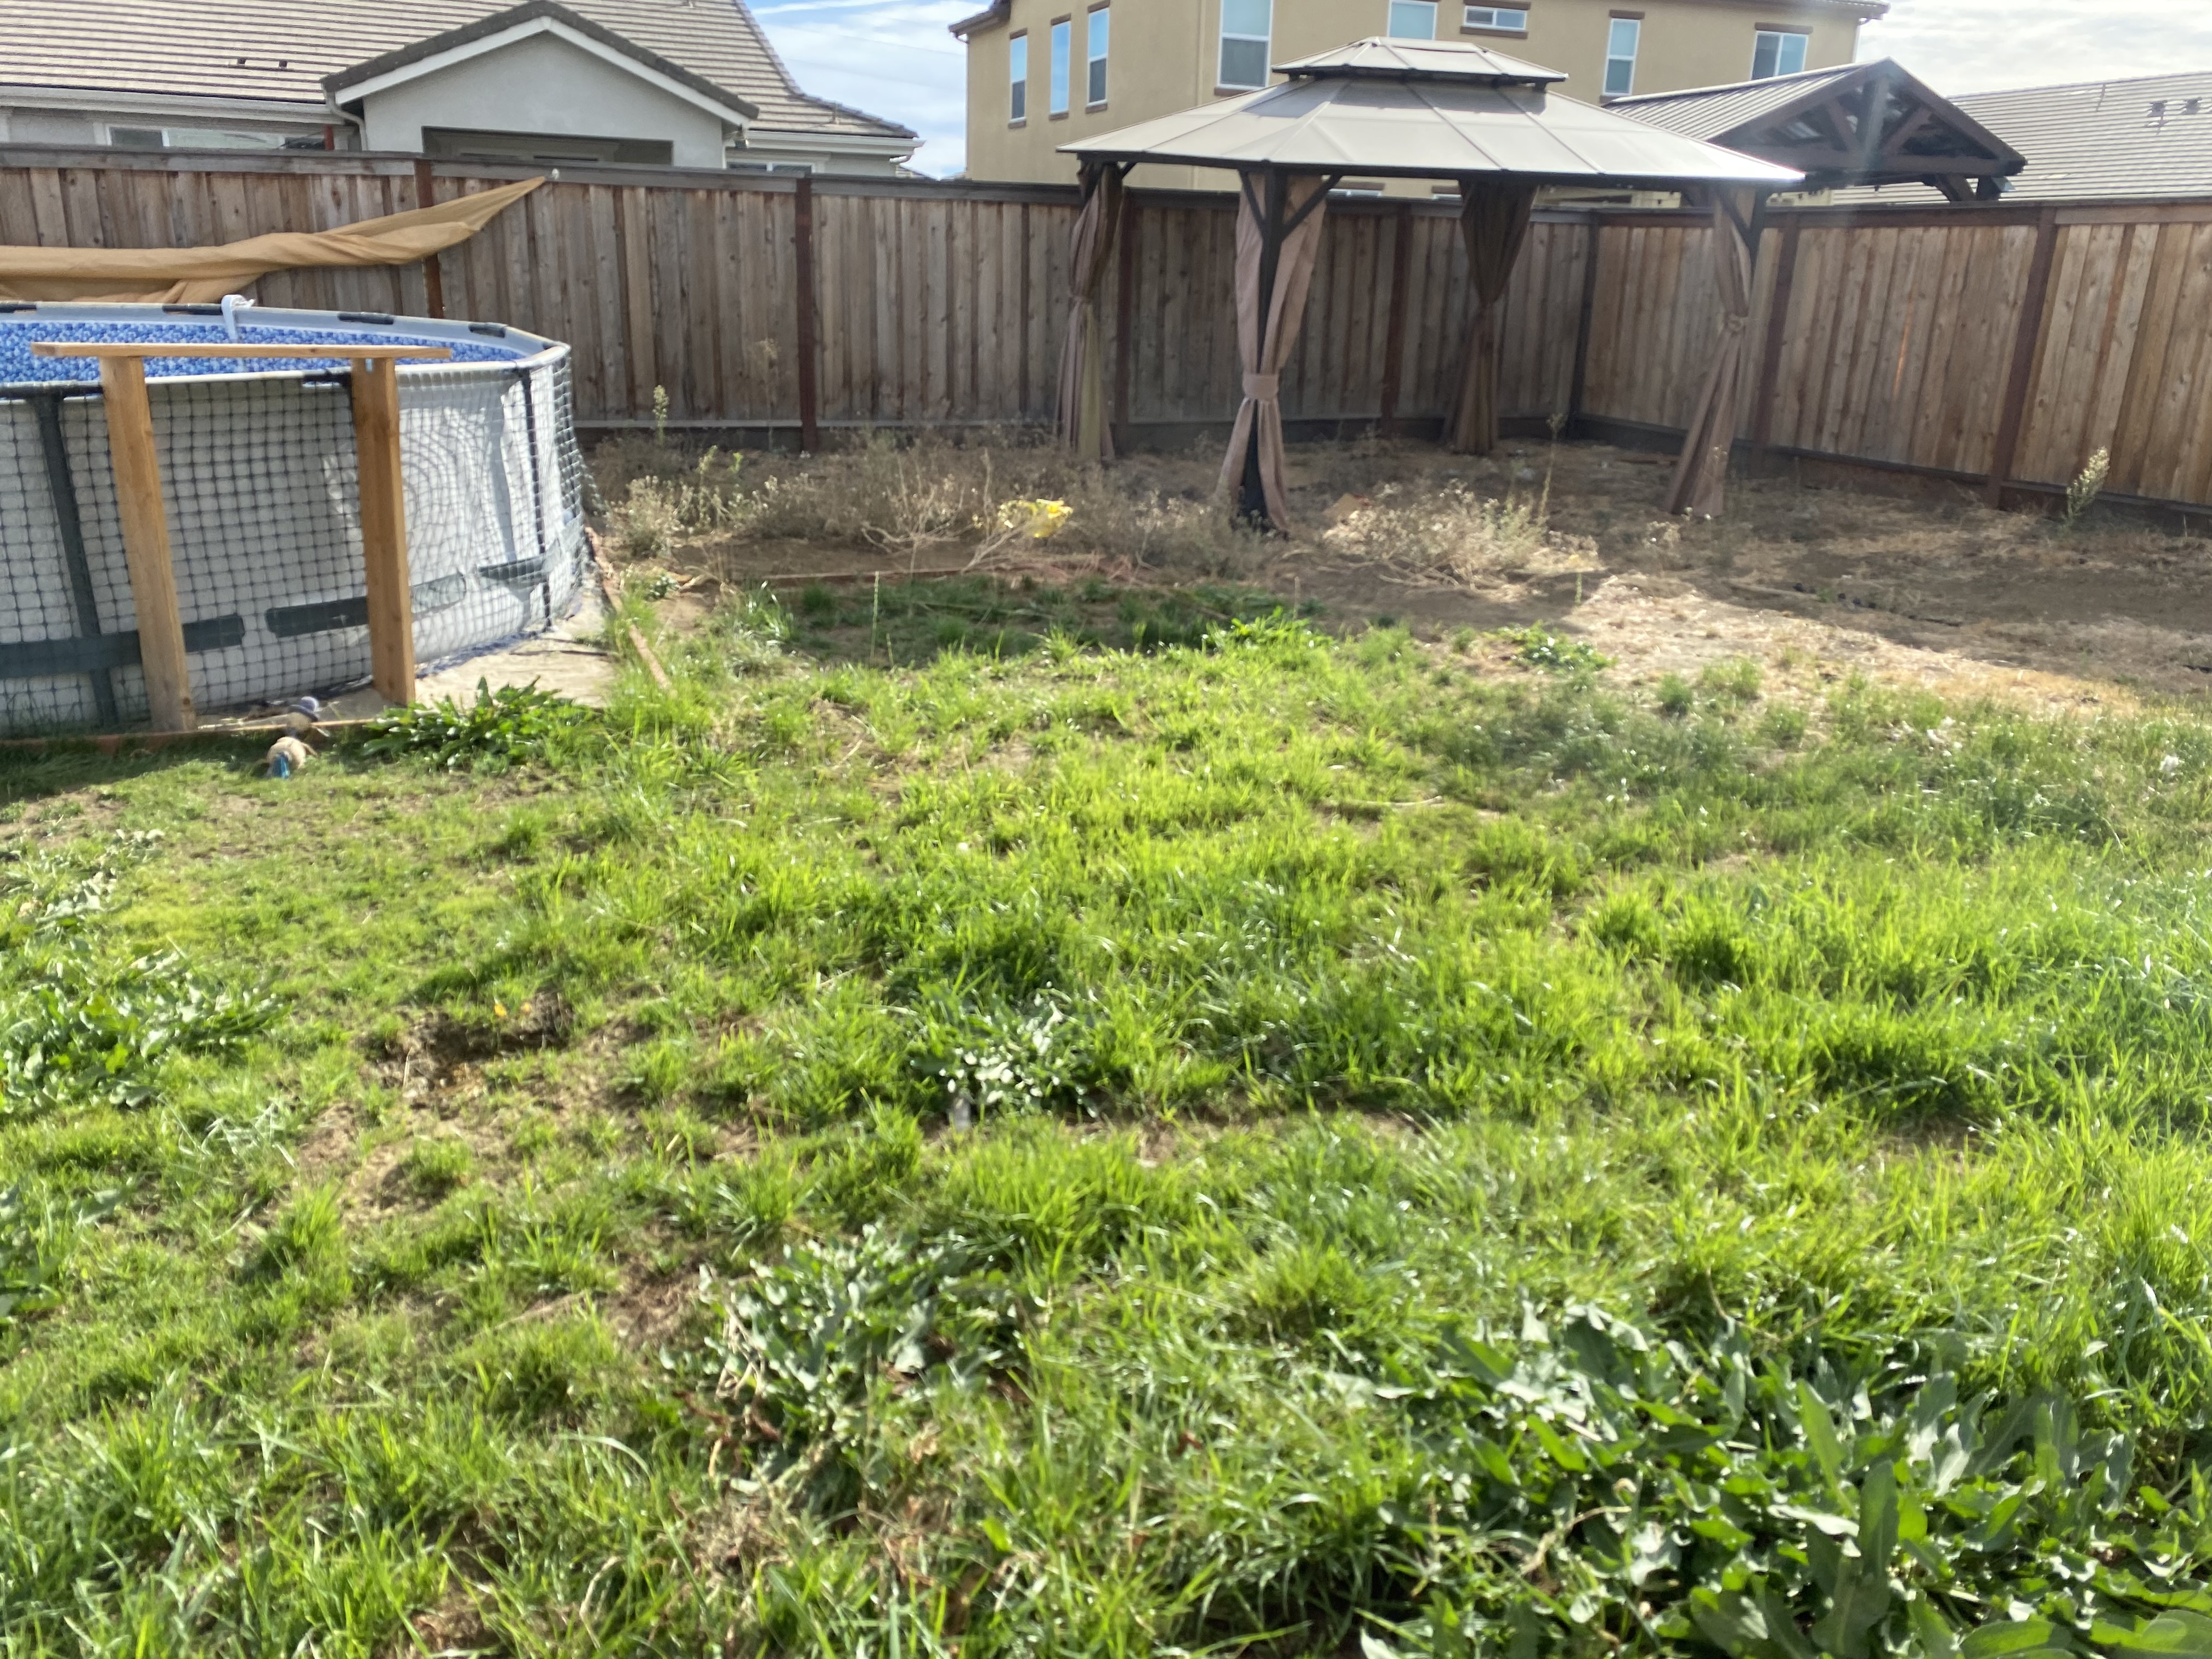weed: (1489, 1286, 2212, 1659), (686, 1232, 1036, 1466), (7, 894, 265, 1077), (895, 995, 1062, 1114), (357, 688, 611, 763)
